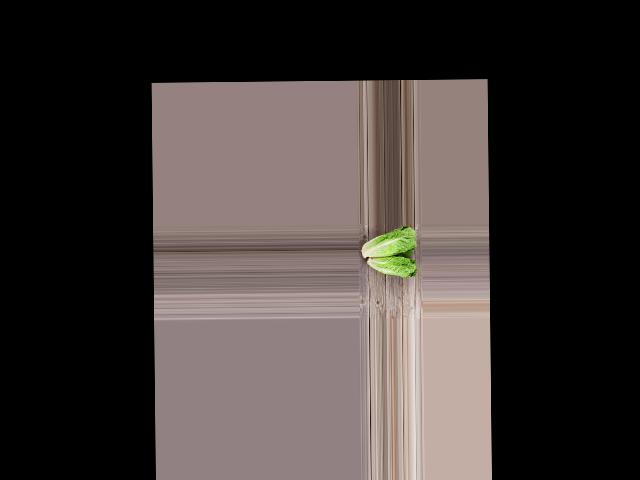lettuce: (358, 225, 418, 258)
